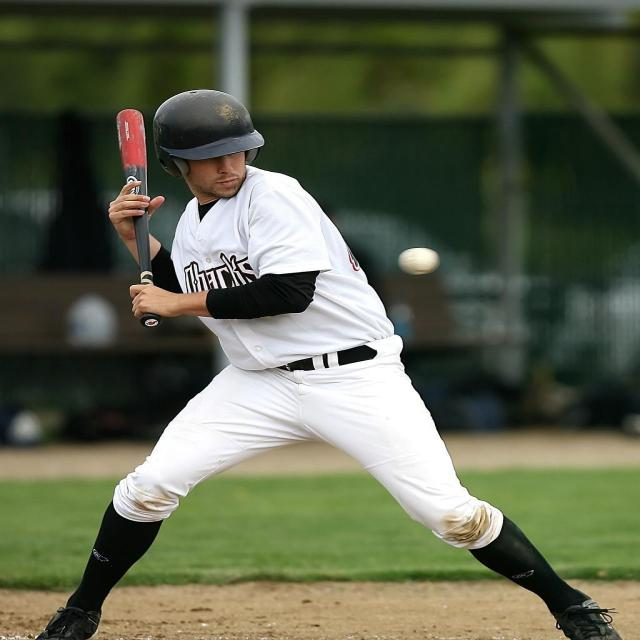baseball: (398, 248, 436, 276)
